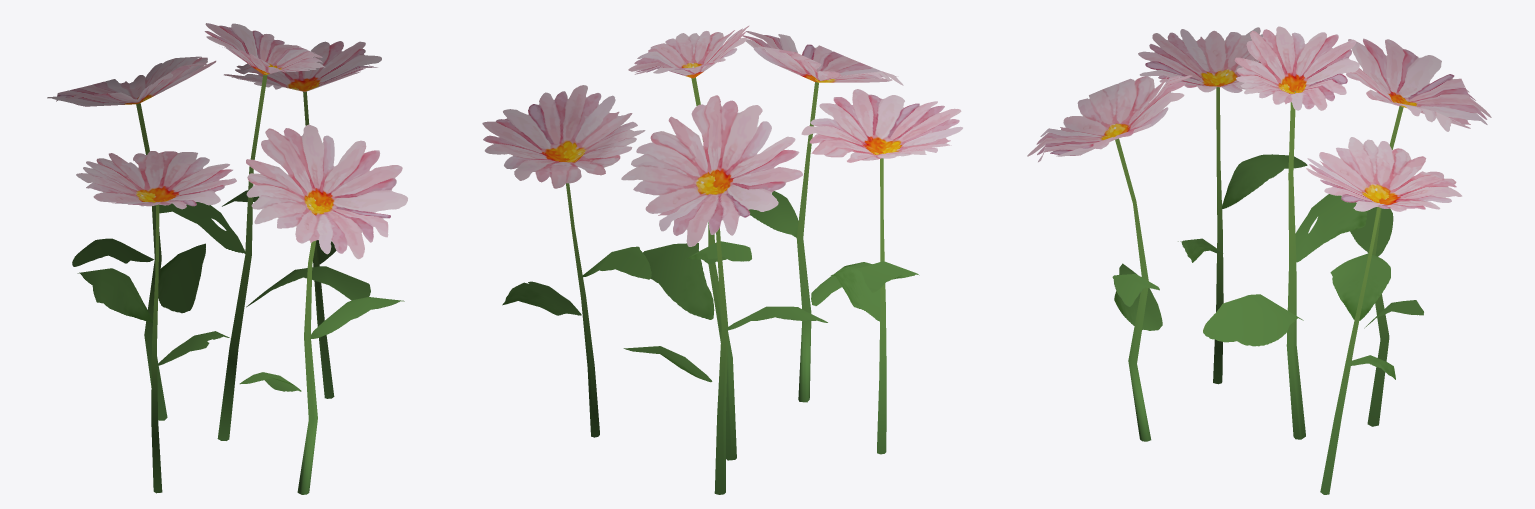
The model's file is FlowerB_Cluster.fbx.
3 renders of one model, left to right at view 1: azimuth 30°, elevation 25°; view 2: azimuth 150°, elevation 25°; view 3: azimuth 270°, elevation 25°, orthographic. The views are drawn at different scales.
Parts seen in each view (by area): view 1: FlowerB_ClusterLOD0; view 2: FlowerB_ClusterLOD0; view 3: FlowerB_ClusterLOD0.
Part boxes in pixels (left/top/right/bottom): FlowerB_ClusterLOD0: left=47, top=23, right=407, bottom=494; FlowerB_ClusterLOD0: left=482, top=25, right=962, bottom=494; FlowerB_ClusterLOD0: left=1027, top=26, right=1491, bottom=494.
Size of what is drawn, in the model's own units: 76.5 by 70.11 by 76.62.
